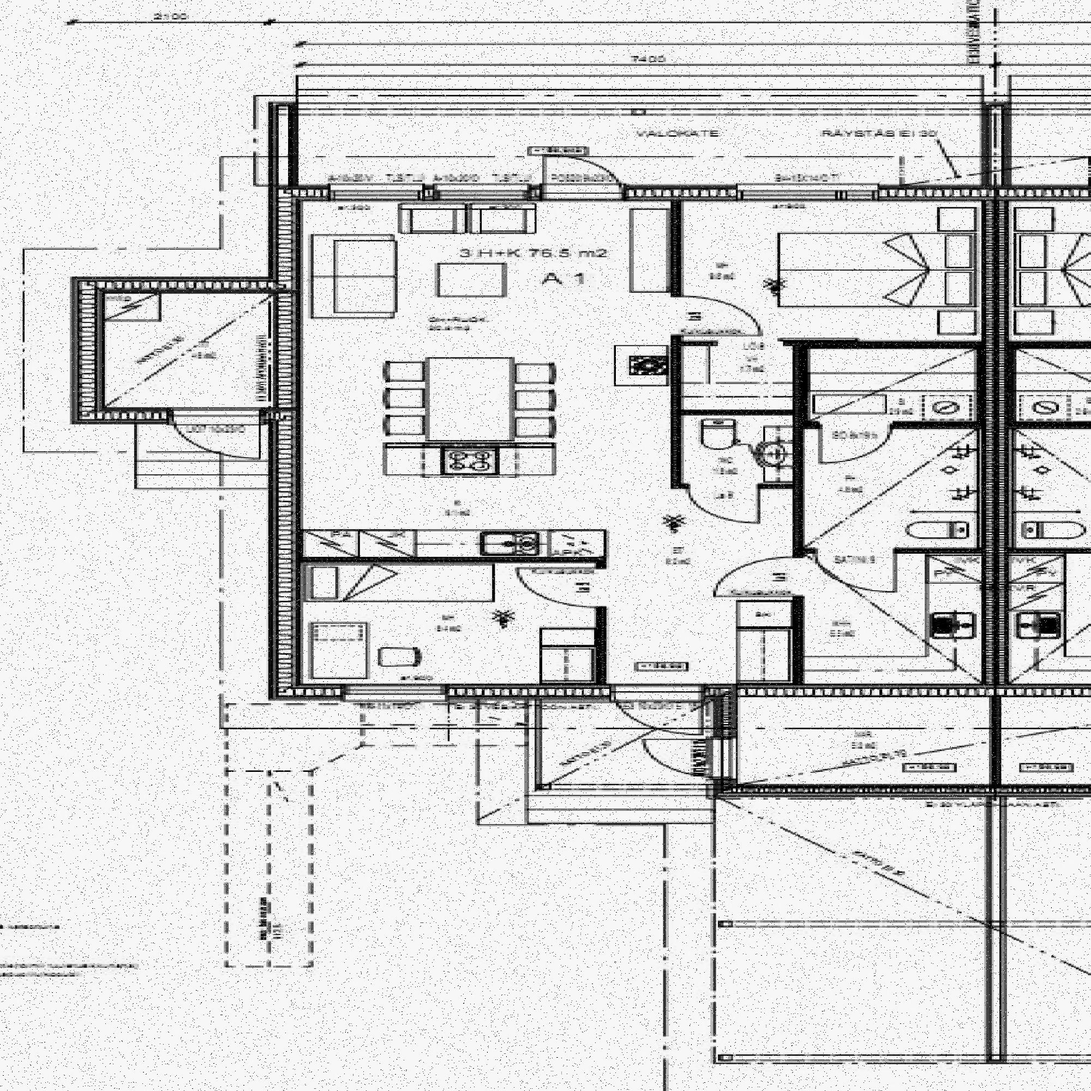wall: (984, 186, 1009, 697), (269, 185, 1009, 201), (269, 408, 300, 700), (269, 684, 728, 700), (73, 277, 103, 424), (269, 278, 300, 407), (73, 407, 300, 424), (728, 684, 1009, 697), (73, 277, 300, 293), (269, 185, 300, 293), (713, 785, 1002, 796), (990, 796, 1002, 1060), (269, 103, 298, 201), (713, 684, 737, 796), (672, 186, 680, 489), (981, 103, 1009, 186), (794, 484, 803, 697), (795, 422, 1009, 429), (269, 557, 606, 561), (795, 342, 1009, 348), (598, 557, 606, 700), (795, 341, 808, 422), (992, 697, 1002, 796), (795, 549, 1009, 553), (385, 443, 556, 447), (794, 422, 803, 484), (672, 411, 808, 415), (672, 484, 803, 488), (672, 342, 718, 346), (782, 342, 808, 346)
